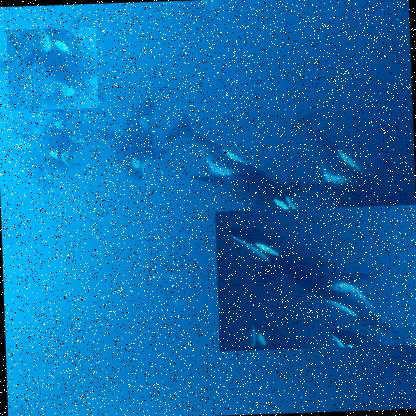killer_whale: (214, 203, 415, 353), (158, 113, 299, 234), (90, 77, 192, 192), (5, 26, 98, 110)
